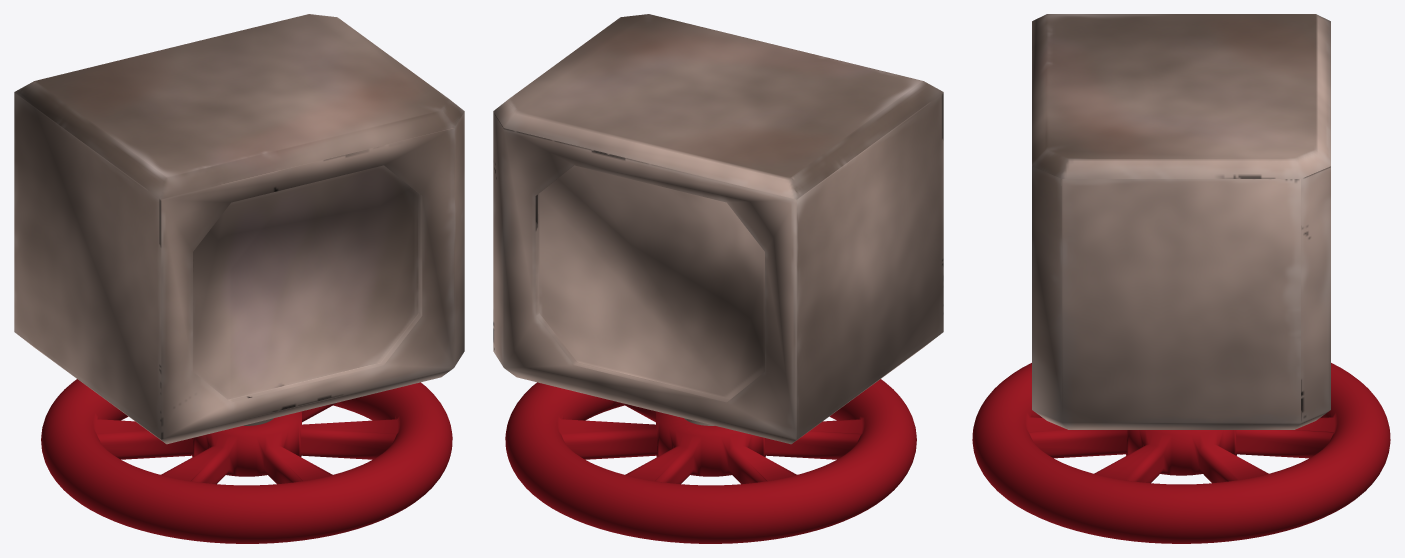
The model's file is valve.glb.
3 views of the same model, side by side, from view 1: azimuth 30°, elevation 25°; view 2: azimuth 150°, elevation 25°; view 3: azimuth 270°, elevation 25° (orthographic).
Visible parts, largest first — view 1: Wheel pipe; view 2: Wheel pipe; view 3: Wheel pipe.
Part boxes in pixels (box(x1,y1,x2,y2)): Wheel pipe: box(14, 14, 464, 543); Wheel pipe: box(493, 14, 943, 543); Wheel pipe: box(972, 14, 1390, 543).
Size of the model in its own units: 6.37 by 6.37 by 6.37.
2 materials, 1 textured.
